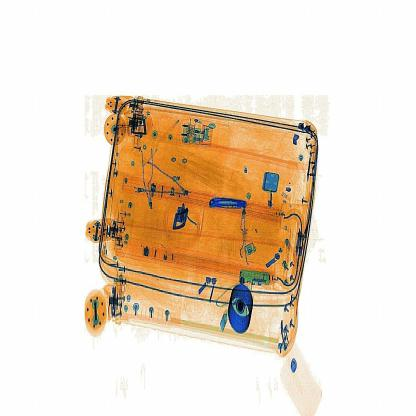knife: (201, 187, 252, 217)
